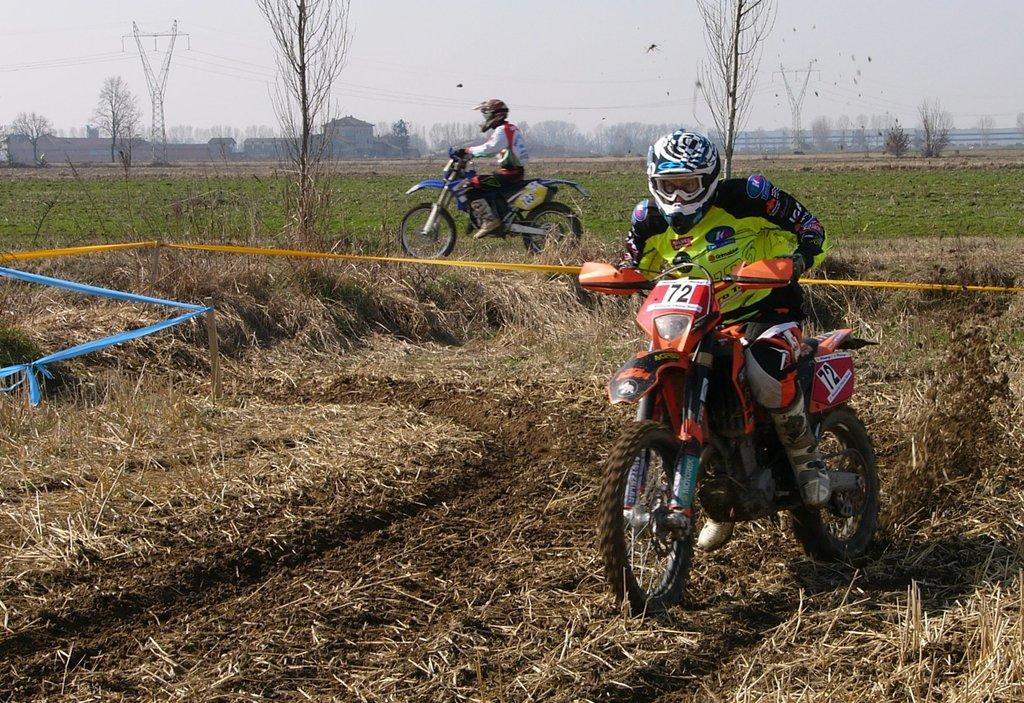helmet: (647, 131, 722, 235), (472, 98, 510, 133)
